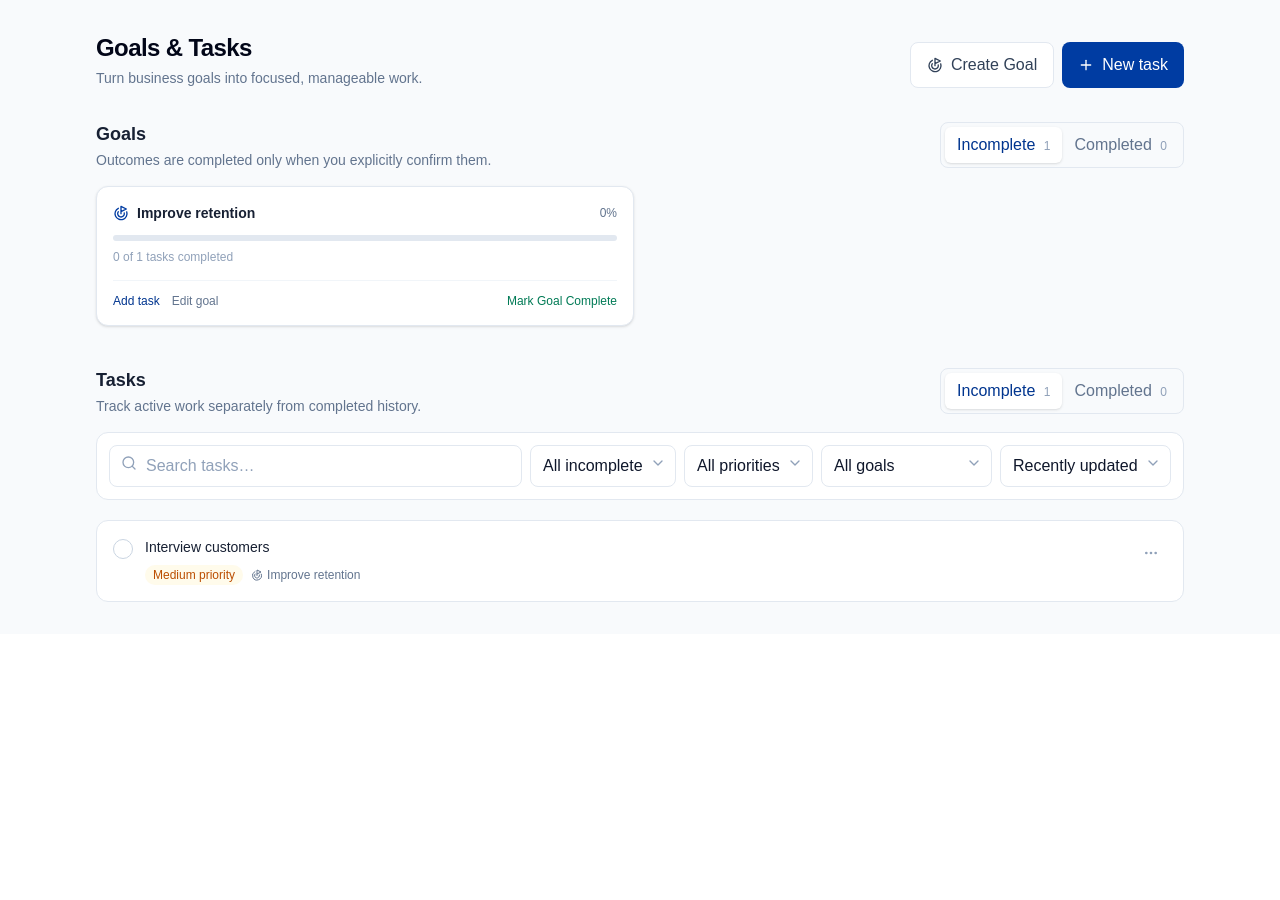
Test: persisted task and goal management › moves a completed task between tabs and restores its previous incomplete status
Expected: the text "Interview customers" is shown, [145,539,270,555]
Click the button named "Mark task complete: Interview customers" at (123, 549), box [113,539,133,559]
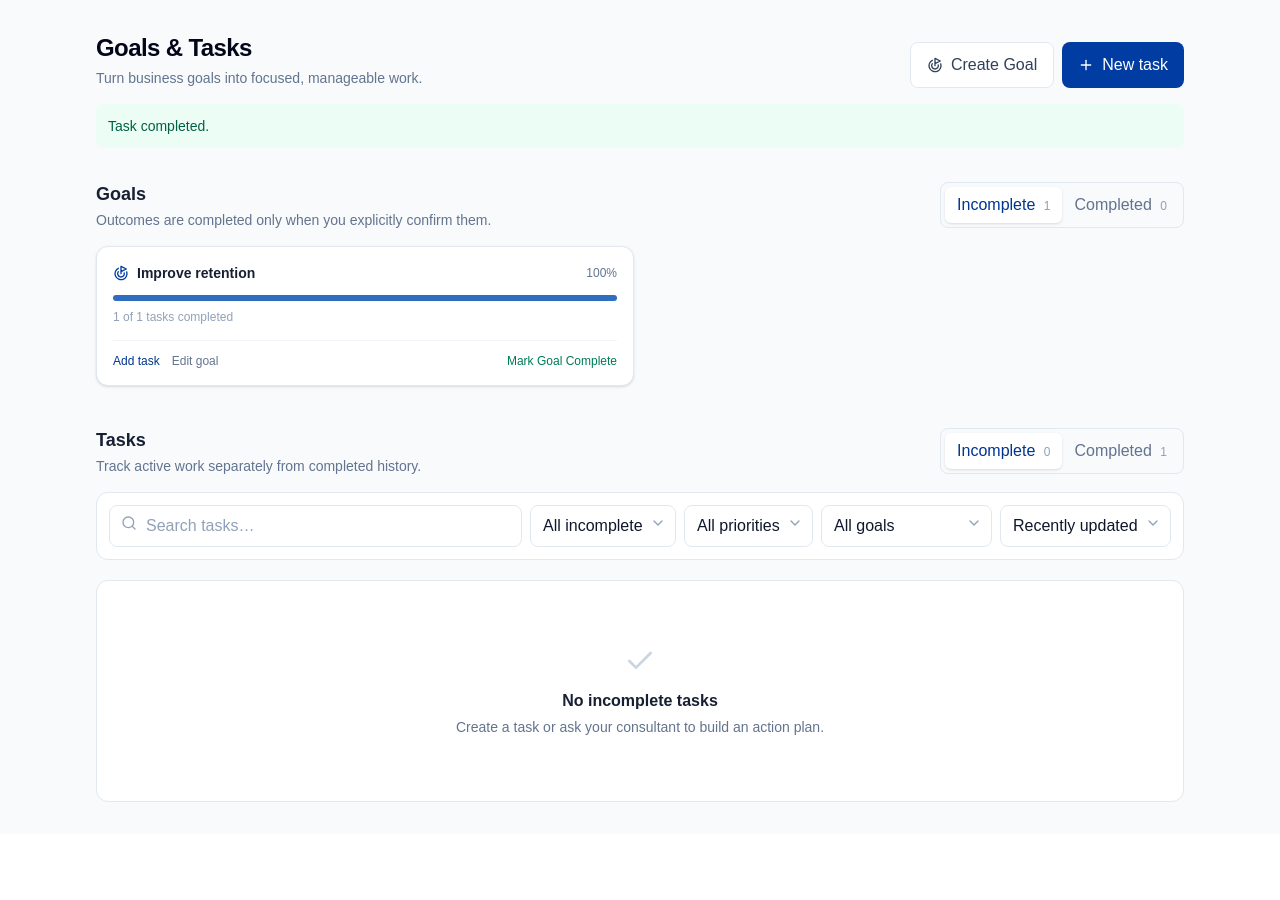
Expected: the button "Interview customers" is gone
Click the tab "Completed 1" at (1121, 451), box [1062,433,1179,469]
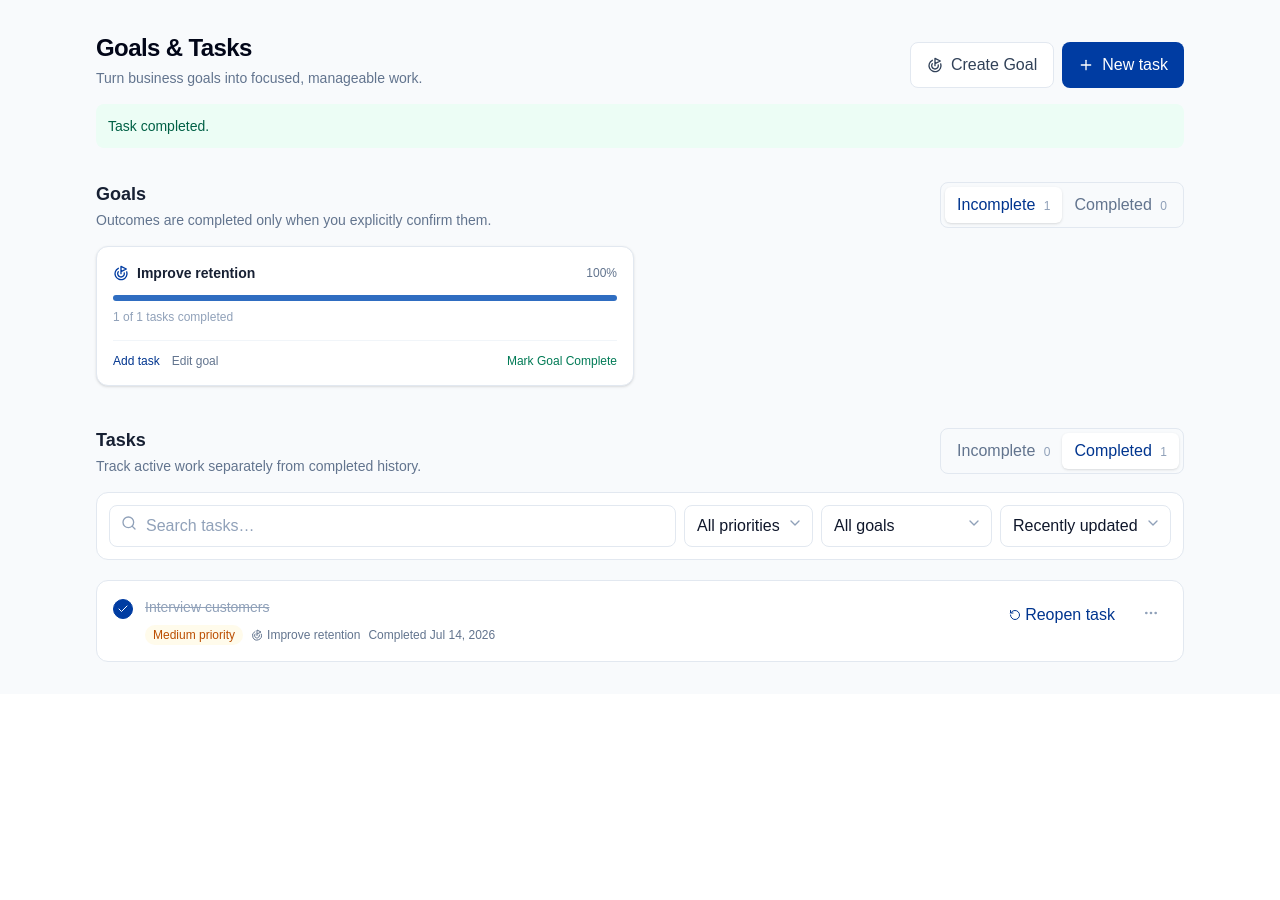
Expected: the text "Interview customers" is shown, [145,599,270,615]
Click the button "Reopen task" at (1062, 615), box [1001,597,1123,633]
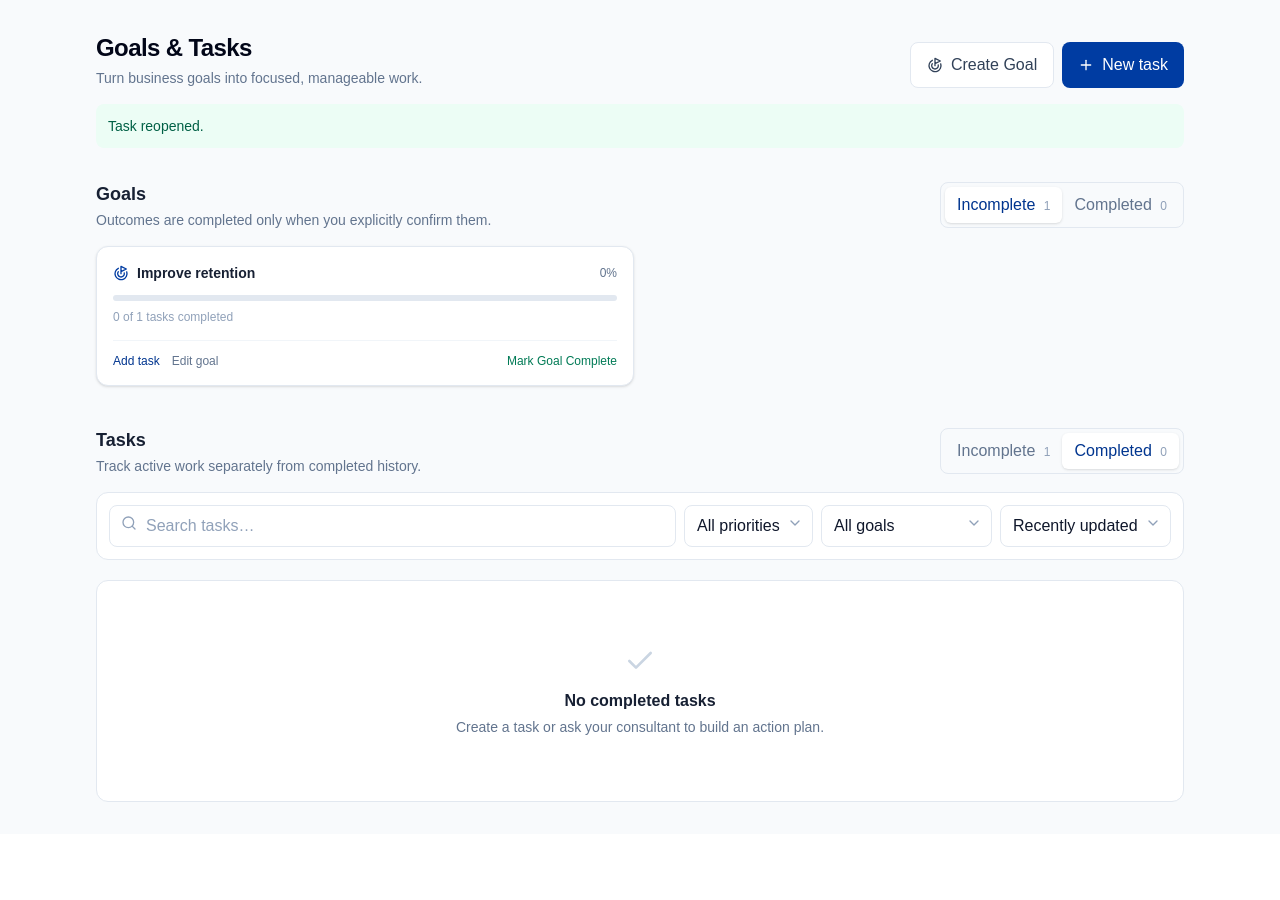
Expected: the button "Interview customers" is gone
Click the 2nd tab "Incomplete 1" at (1004, 451), box [945,433,1062,469]
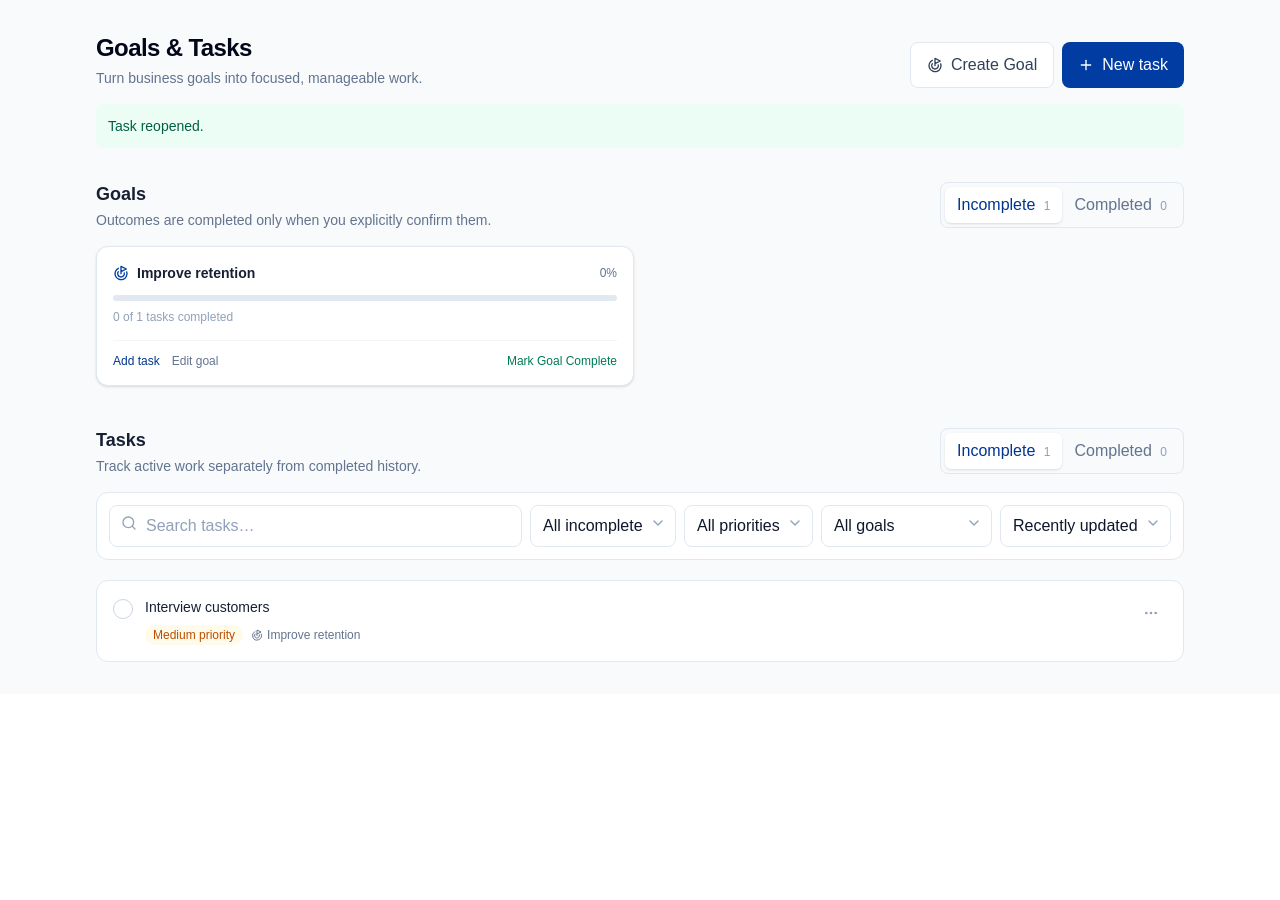
Expected: the text "Interview customers" is shown, [145,599,270,615]
